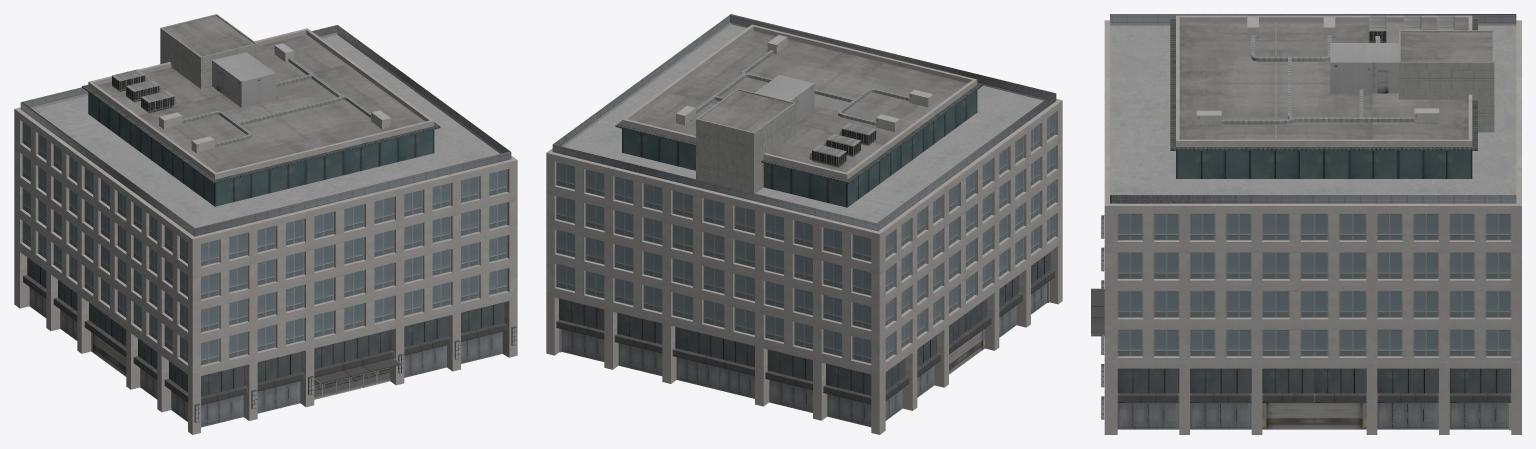
The model's file is office-l5.glb.
3 renders of one model, left to right at view 1: azimuth 30°, elevation 25°; view 2: azimuth 150°, elevation 25°; view 3: azimuth 270°, elevation 25°, orthographic. The views are drawn at different scales.
Visible parts, largest first — view 1: AIT01W2W3_AIT01W2W3_0; view 2: AIT01W2W3_AIT01W2W3_0; view 3: AIT01W2W3_AIT01W2W3_0.
Part boxes in pixels (bbox=[...]): AIT01W2W3_AIT01W2W3_0: bbox=[14, 14, 517, 434]; AIT01W2W3_AIT01W2W3_0: bbox=[546, 14, 1062, 434]; AIT01W2W3_AIT01W2W3_0: bbox=[1091, 14, 1521, 434].
Size of the model in its own units: 32 by 23.76 by 31.37.
Materials: 1 (1 with a texture image).
